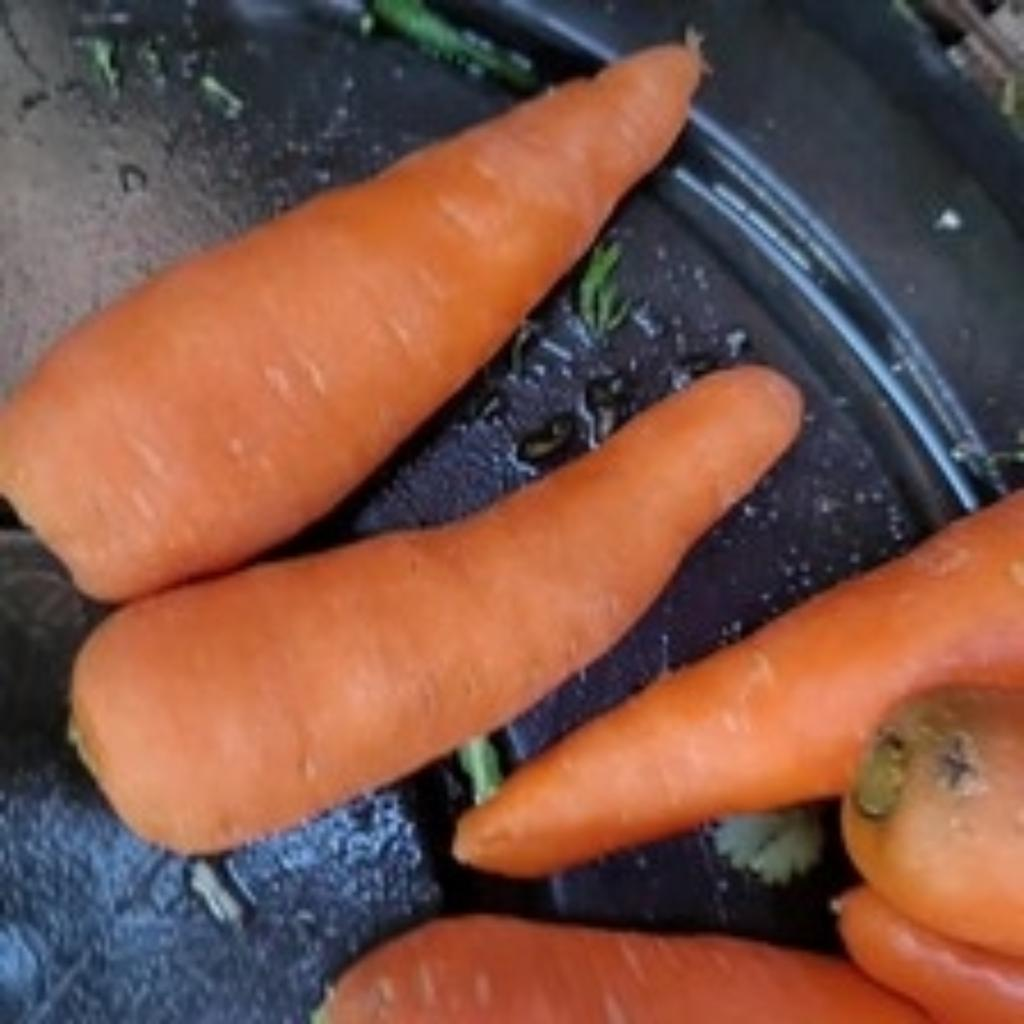carrot: (0, 41, 690, 590), (69, 366, 791, 846), (453, 489, 1015, 869), (320, 910, 1015, 1015)
